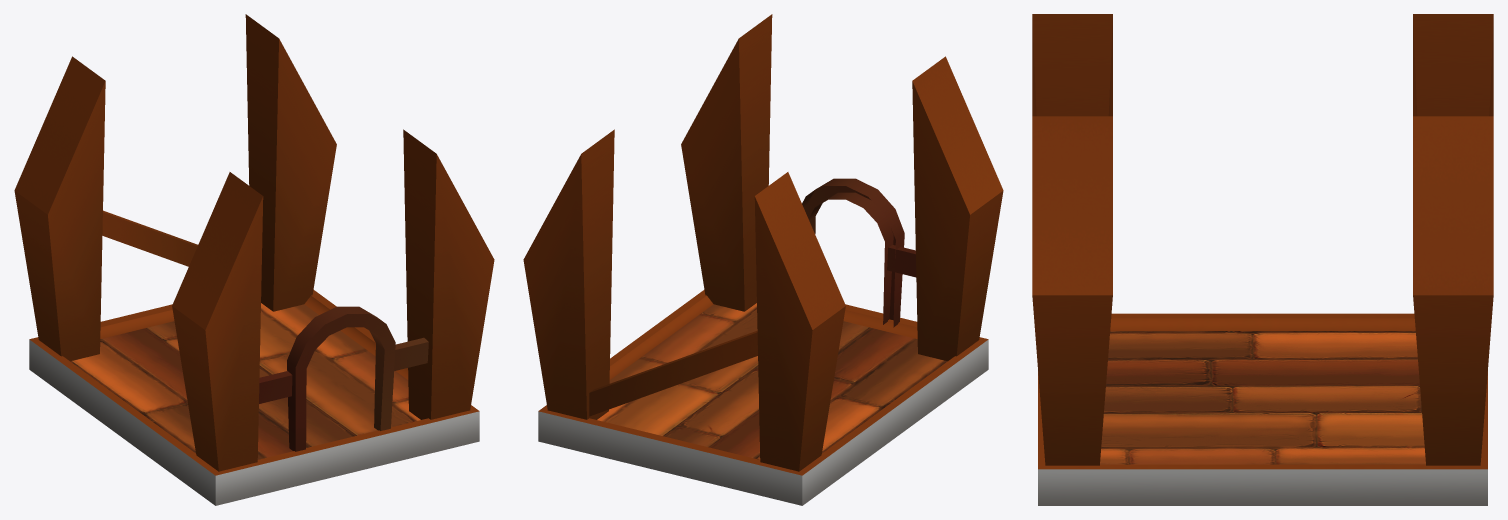
The model's file is VikingHouse_01_M.fbx.
3 renders of one model, left to right at view 1: azimuth 30°, elevation 25°; view 2: azimuth 150°, elevation 25°; view 3: azimuth 270°, elevation 25°, orthographic. The views are drawn at different scales.
Visible parts, largest first — view 1: VikingHouse_01_M; view 2: VikingHouse_01_M; view 3: VikingHouse_01_M.
Part boxes in pixels (<box>): VikingHouse_01_M: <box>14,14,494,505</box>; VikingHouse_01_M: <box>523,14,1003,505</box>; VikingHouse_01_M: <box>1032,14,1493,505</box>.
Size of the model in its own units: 200 by 199 by 229.
Materials: 1 (1 with a texture image).
